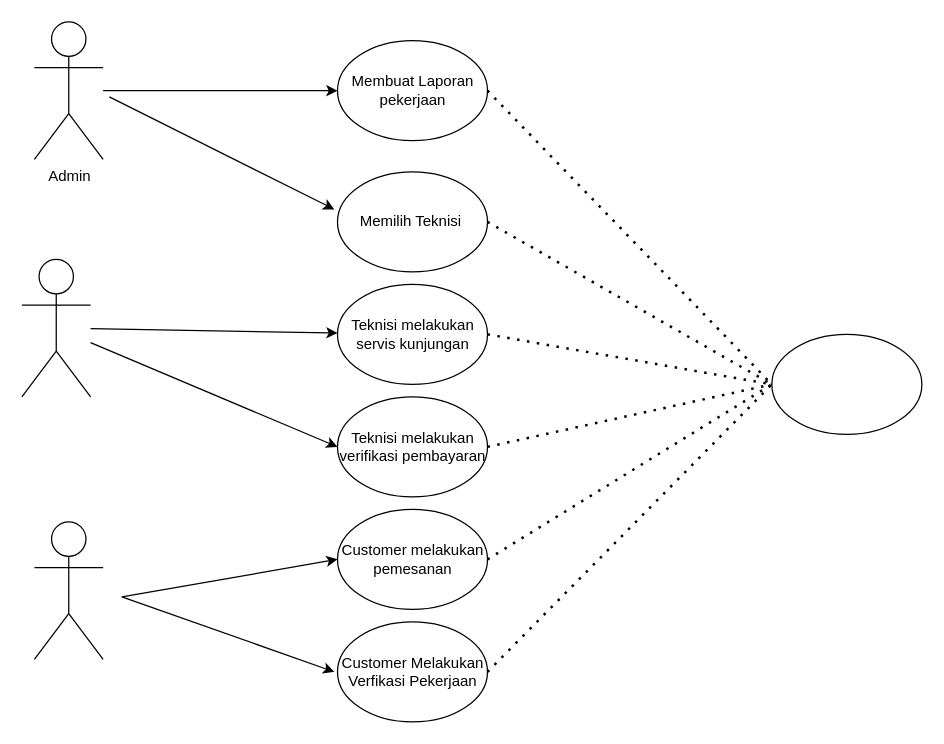
This 944x744 diagram has some shape labels left out. Each missing label, with the centre of its shape:
Customer: pixel 68 590
LOGIN: pixel 846 383
Teknisi: pixel 56 327
